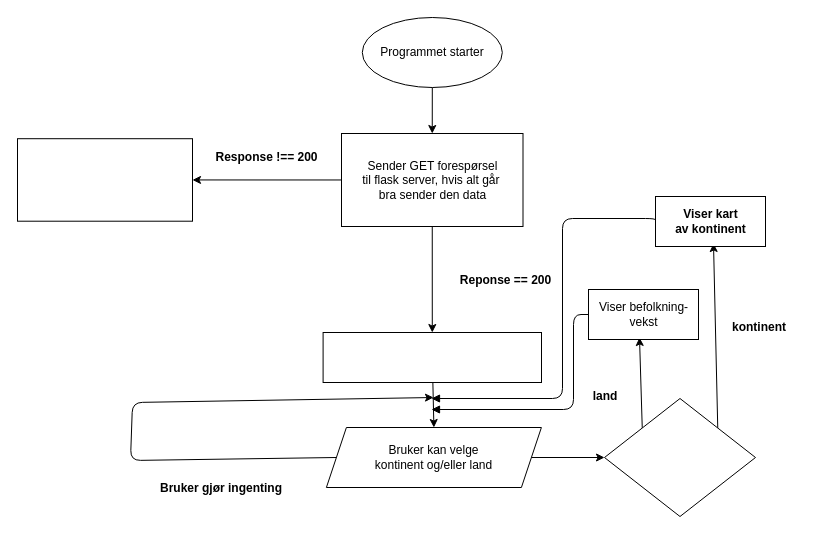
The diagram is 817 pixels wide and 534 high, and some of its shapes have lost their labels. The shapes that lost their labels are listed below. From the top down, each one's box as (x1, y1, x2, y2) in pixels, then its label:
(16, 138, 192, 221): Sender feilmelding til frontent og logger feil i konsollen
(322, 332, 542, 382): Fyller ut verdenskart/ populasjonsvekst
(604, 398, 756, 516): Bruker kan velge land/ kontinent
